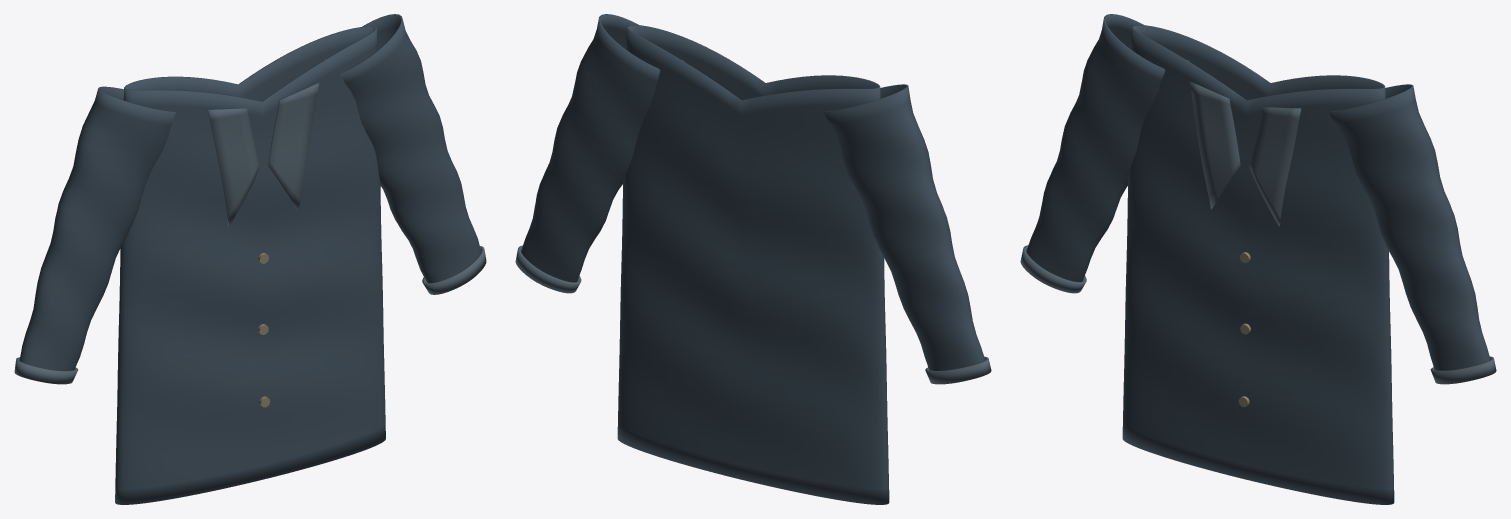
Rendered from held-coat.glb.
3 renders of one model, left to right at view 1: azimuth 30°, elevation 25°; view 2: azimuth 150°, elevation 25°; view 3: azimuth 330°, elevation 25°, orthographic.
Visible parts, largest first — view 1: Jacket body, Left sleeve, Right sleeve, Right lapel, Left lapel, Right cuff, Left cuff; view 2: Jacket body, Left sleeve, Right sleeve, Right cuff, Left cuff; view 3: Jacket body, Right sleeve, Left sleeve, Left lapel, Right lapel, Left cuff, Right cuff.
Boxes of the visible parts, <box> form: Jacket body: <box>115,26,385,504</box>; Left sleeve: <box>19,86,175,370</box>; Right sleeve: <box>323,14,481,283</box>; Right lapel: <box>268,82,319,210</box>; Left lapel: <box>207,108,259,226</box>; Right cuff: <box>422,246,486,294</box>; Left cuff: <box>14,357,78,384</box>; Jacket body: <box>617,25,889,504</box>; Left sleeve: <box>824,84,985,370</box>; Right sleeve: <box>521,14,684,282</box>; Right cuff: <box>515,245,581,293</box>; Left cuff: <box>925,356,991,384</box>; Jacket body: <box>1122,25,1394,504</box>; Right sleeve: <box>1329,84,1490,370</box>; Left sleeve: <box>1026,14,1189,281</box>; Left lapel: <box>1189,81,1240,209</box>; Right lapel: <box>1249,106,1301,226</box>; Left cuff: <box>1020,245,1086,293</box>; Right cuff: <box>1430,356,1496,384</box>.
Size of the model in its own units: 0.6207 by 0.5266 by 0.0657.
